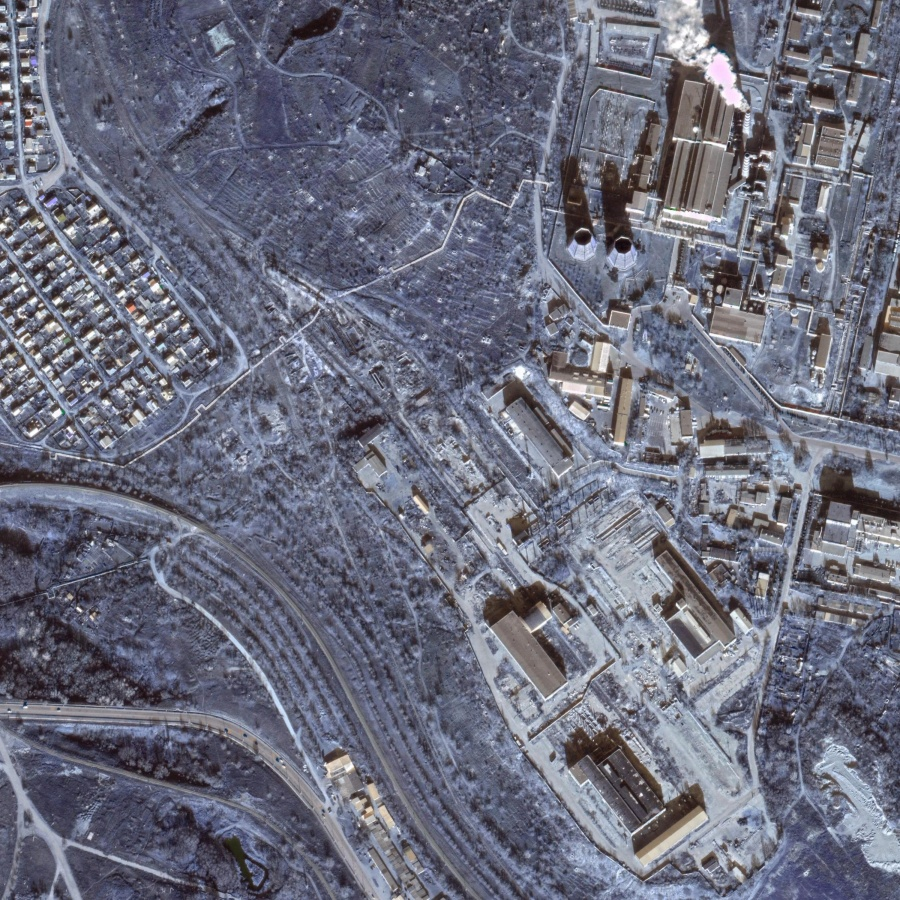PowerPlant: (554, 21, 777, 282)
